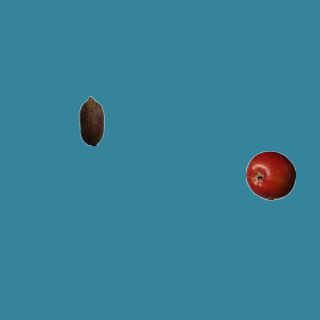Apple Braeburn: (245, 150, 295, 200)
Nut Pecan: (66, 95, 116, 145)
